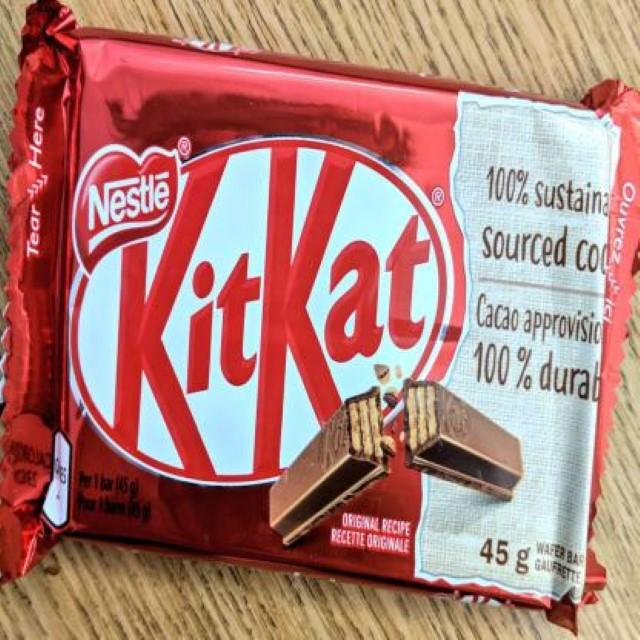kitkat_chocolate: (30, 13, 590, 625)
